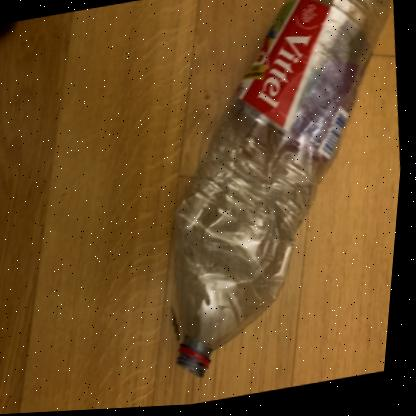Plastic: (180, 0, 393, 379)
